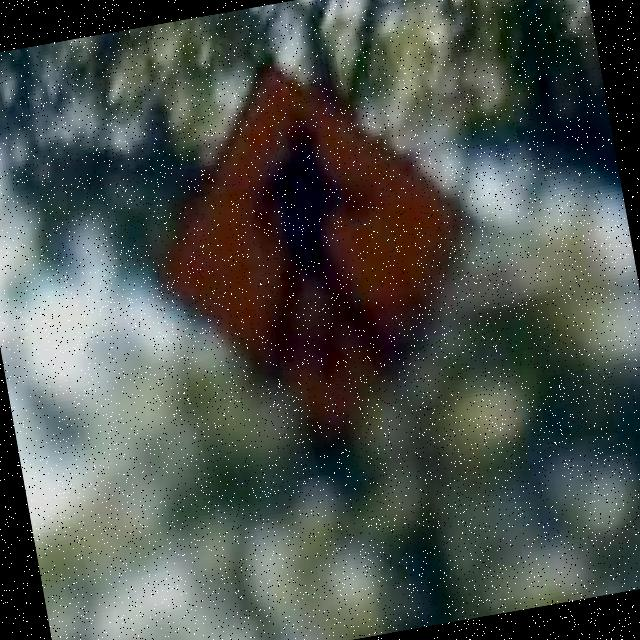Przejscie dla pieszych: (150, 46, 478, 340)
